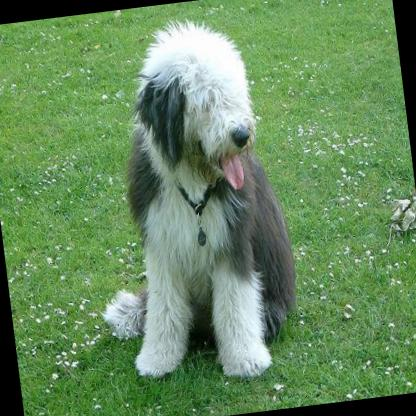Old_English_sheepdog: (69, 9, 304, 390)
